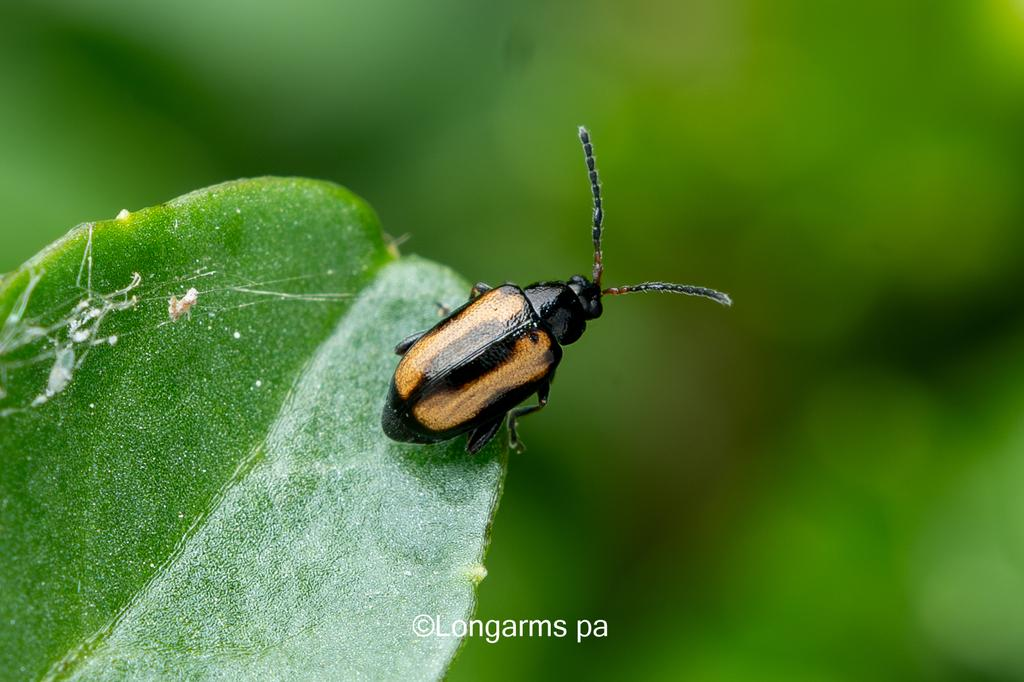flea_beetle: (317, 86, 760, 512)
